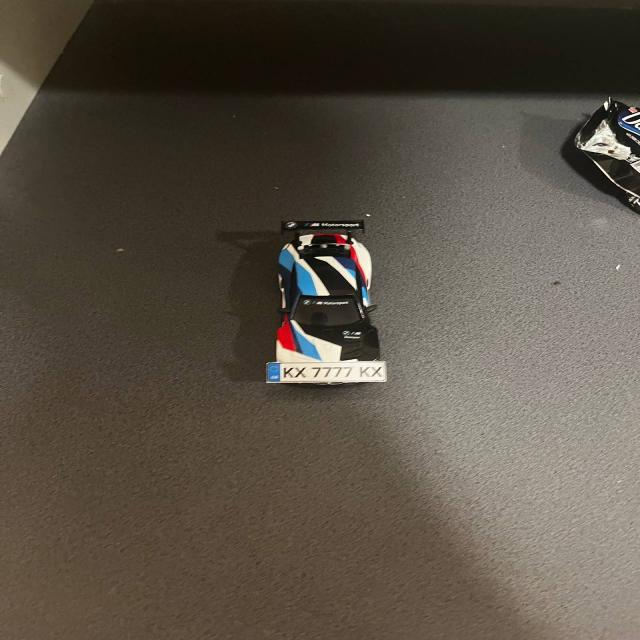cars: (260, 210, 391, 394)
